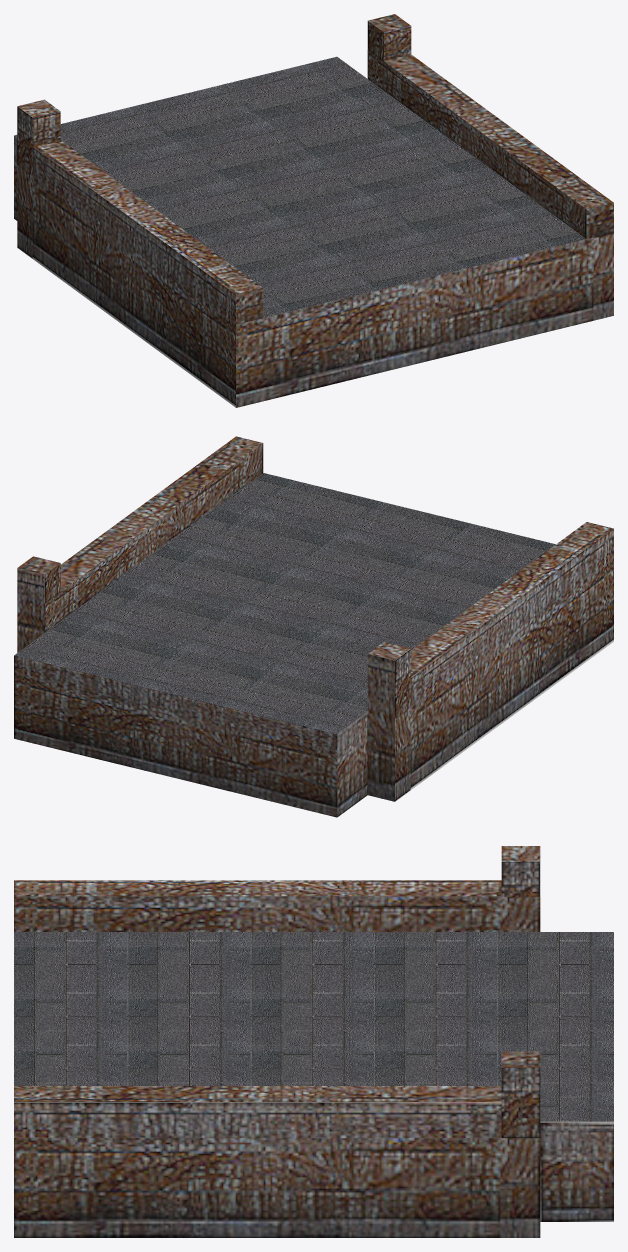
File: caminoprincipalmonoblock.fbx
The picture shows the model from 3 angles, top to bottom: view 1: azimuth 30°, elevation 25°; view 2: azimuth 150°, elevation 25°; view 3: azimuth 270°, elevation 25°; orthographic projection. The views are drawn at different scales.
Parts seen in each view (by area): view 1: Cube; view 2: Cube; view 3: Cube.
Part boxes in pixels (x1,y1,x2,y2): Cube: (14, 14, 613, 407); Cube: (14, 436, 613, 817); Cube: (14, 846, 613, 1237).
Bounding box in the file's own units: 140 × 50.21 × 160.
